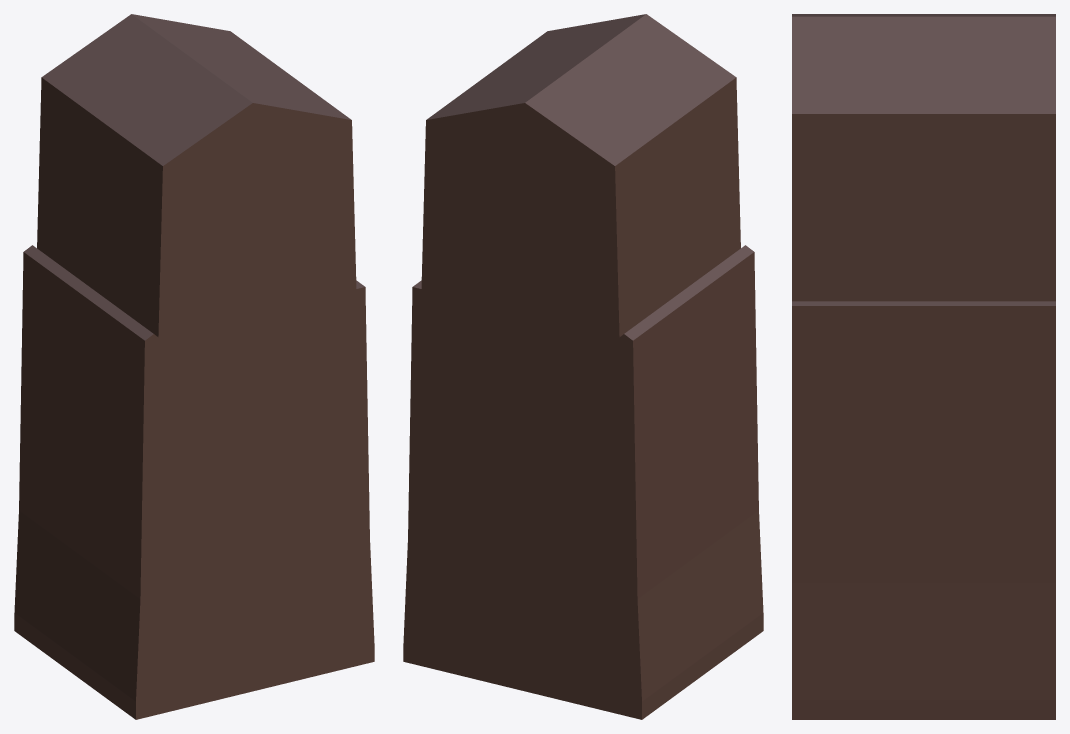
The model's file is bg_city_water_tower_1_lod2.glb.
3 renders of one model, left to right at view 1: azimuth 30°, elevation 25°; view 2: azimuth 150°, elevation 25°; view 3: azimuth 270°, elevation 25°, orthographic. The views are drawn at different scales.
Parts seen in each view (by area): view 1: body; view 2: body; view 3: body.
Part boxes in pixels (x1=…): body: x1=14, y1=14, x2=374, y2=719; body: x1=403, y1=14, x2=763, y2=719; body: x1=792, y1=14, x2=1055, y2=719.
Bounding box in the file's own units: 4.67 × 11 × 4.11.
